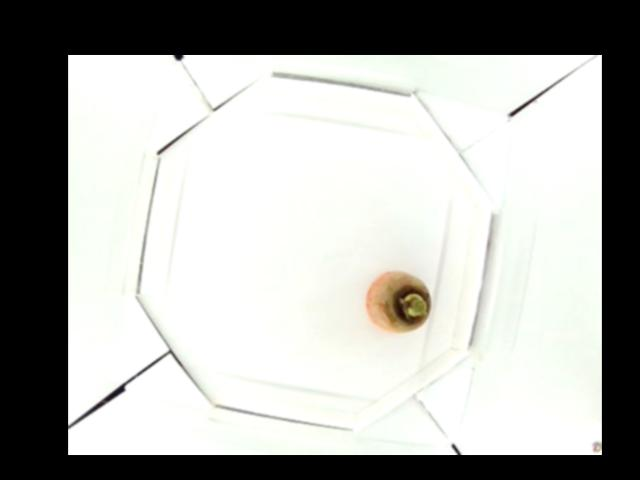Carrot: (363, 271, 432, 335)
